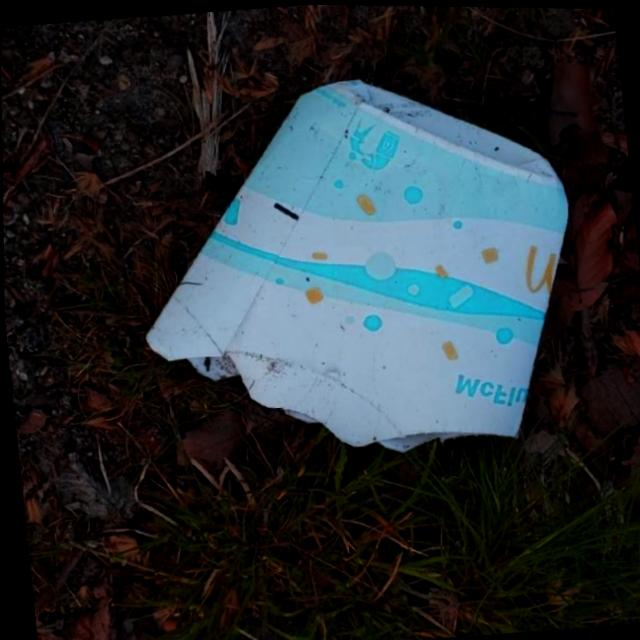Paper: (115, 51, 595, 478)
